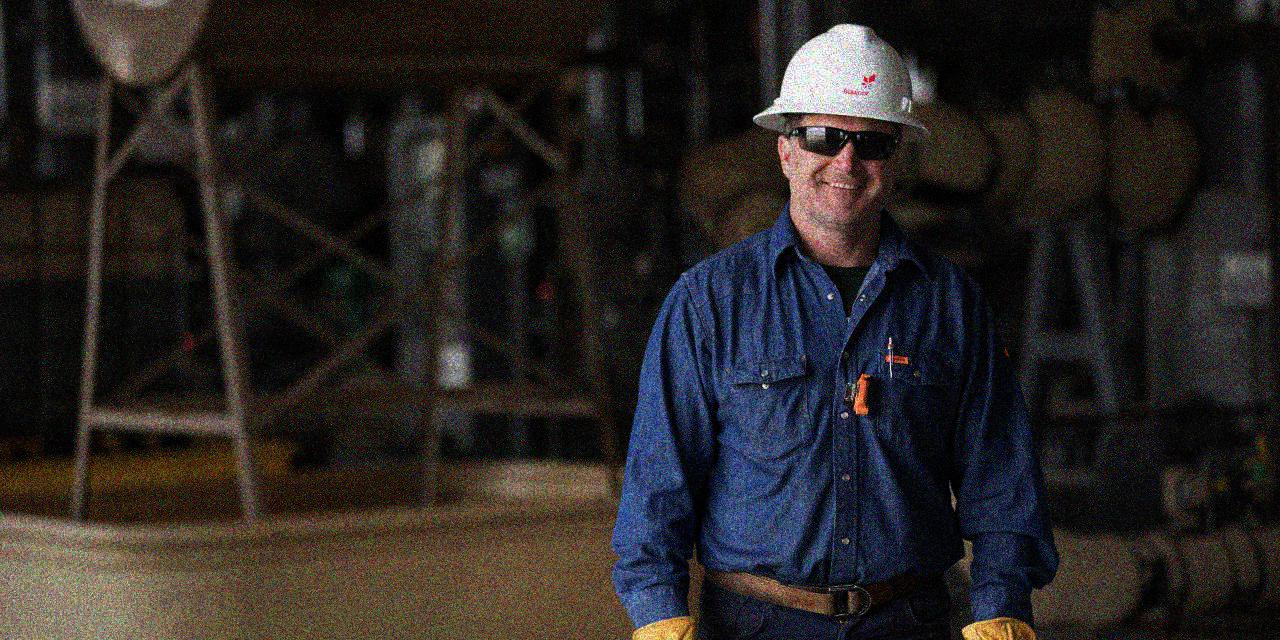helmet: (749, 21, 929, 235)
